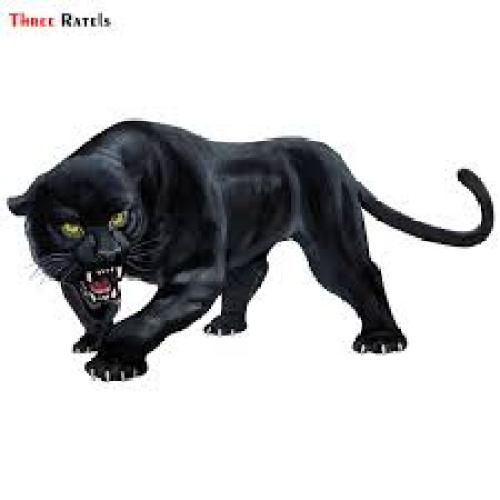panther-endangered: (5, 119, 500, 383)
